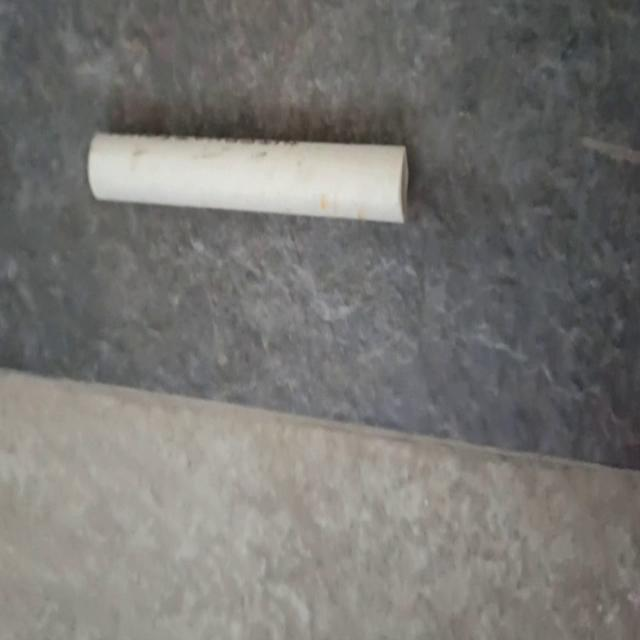Cube: (86, 128, 410, 226)
